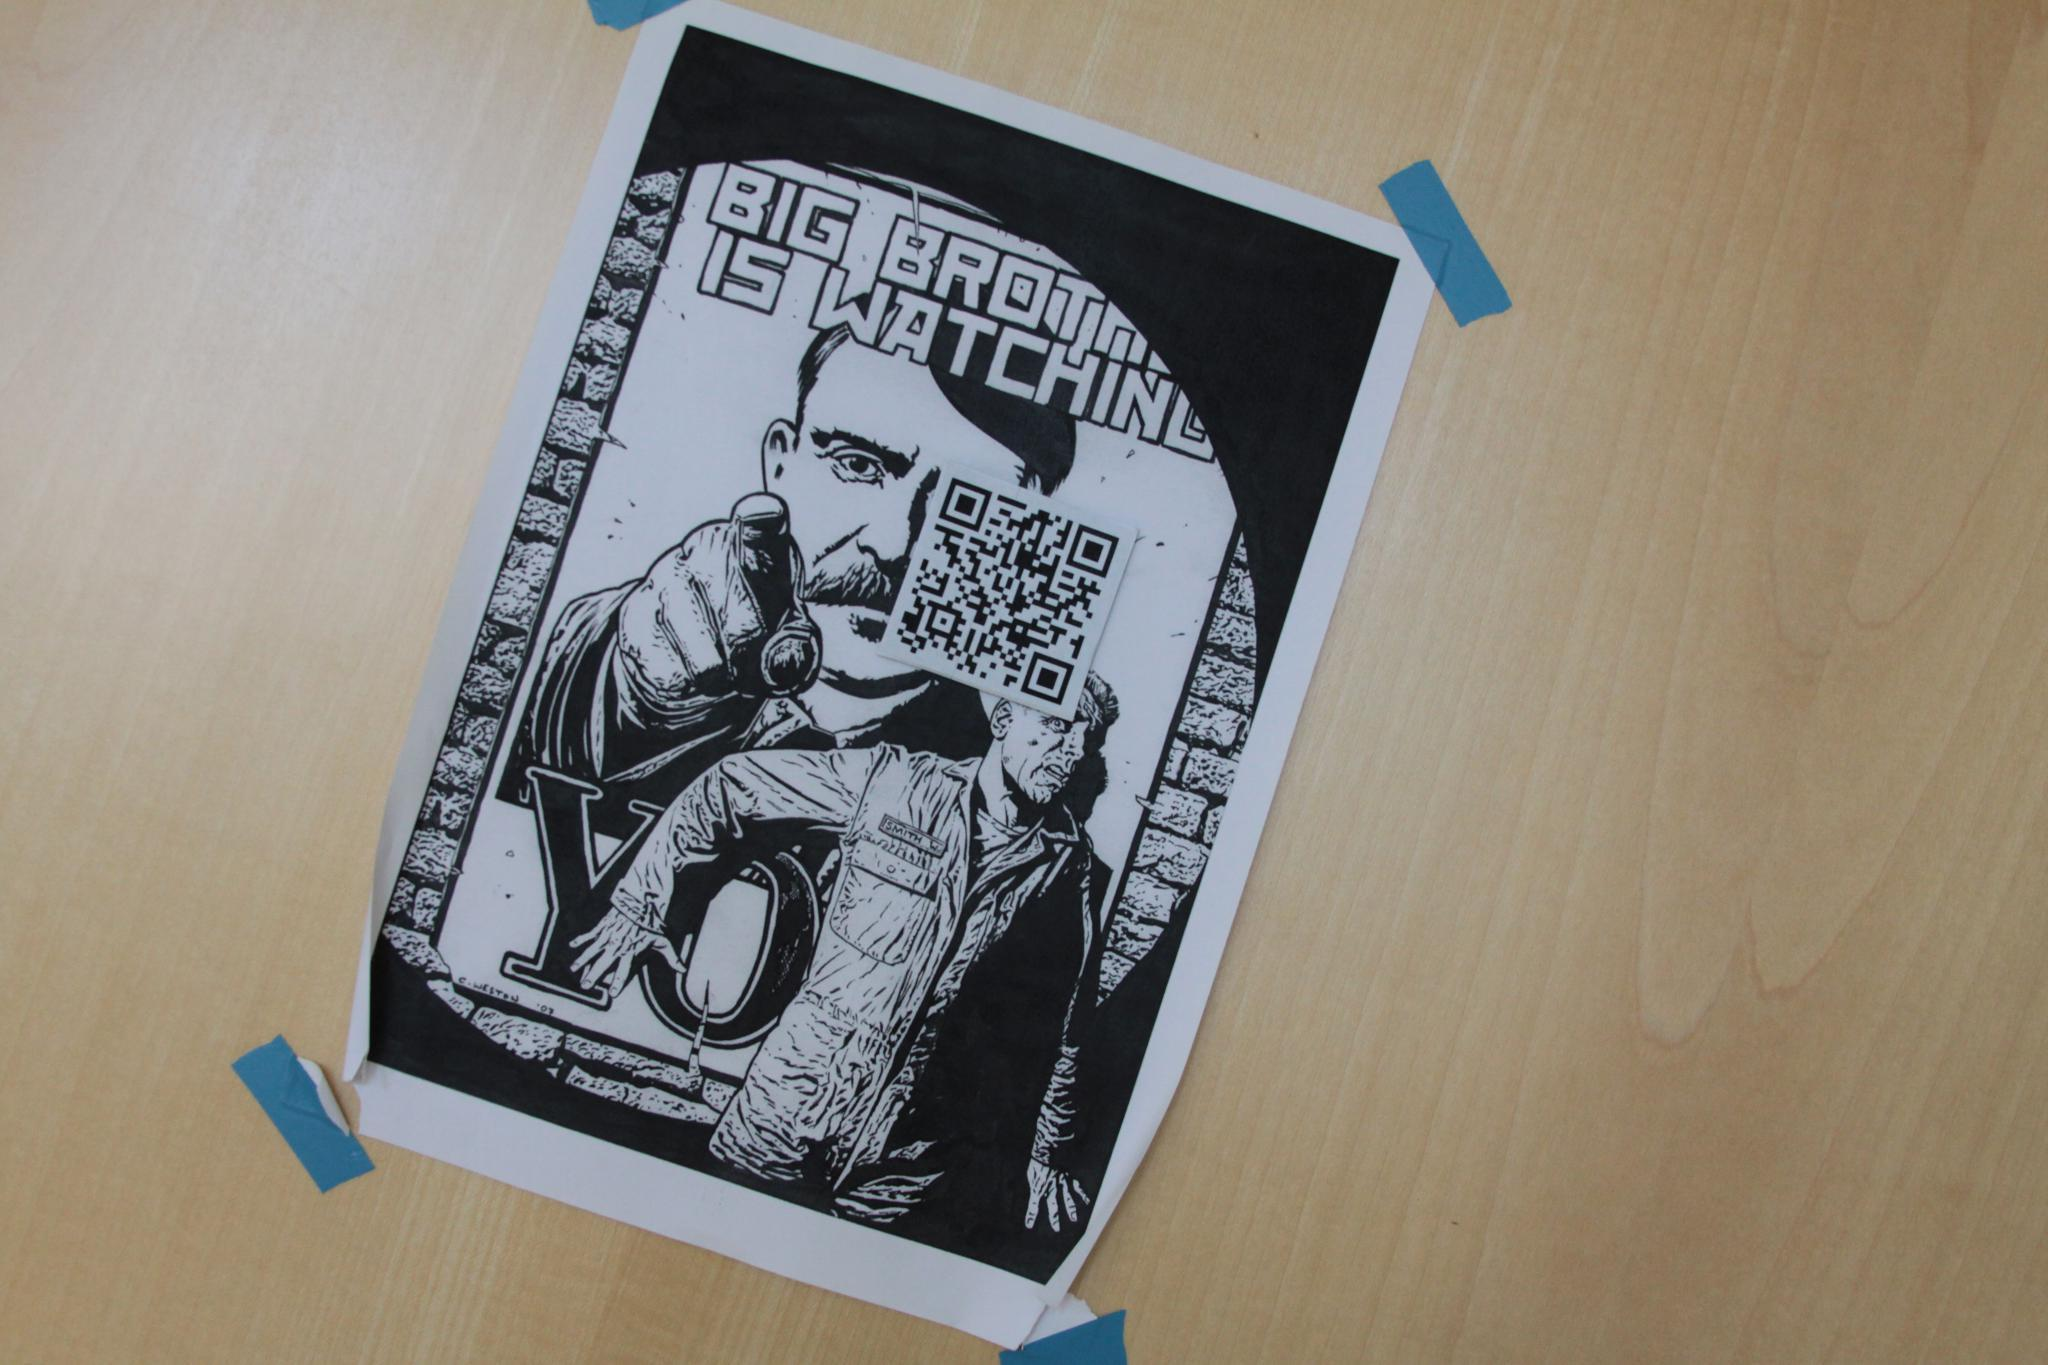qr_code: (895, 477, 1118, 705)
